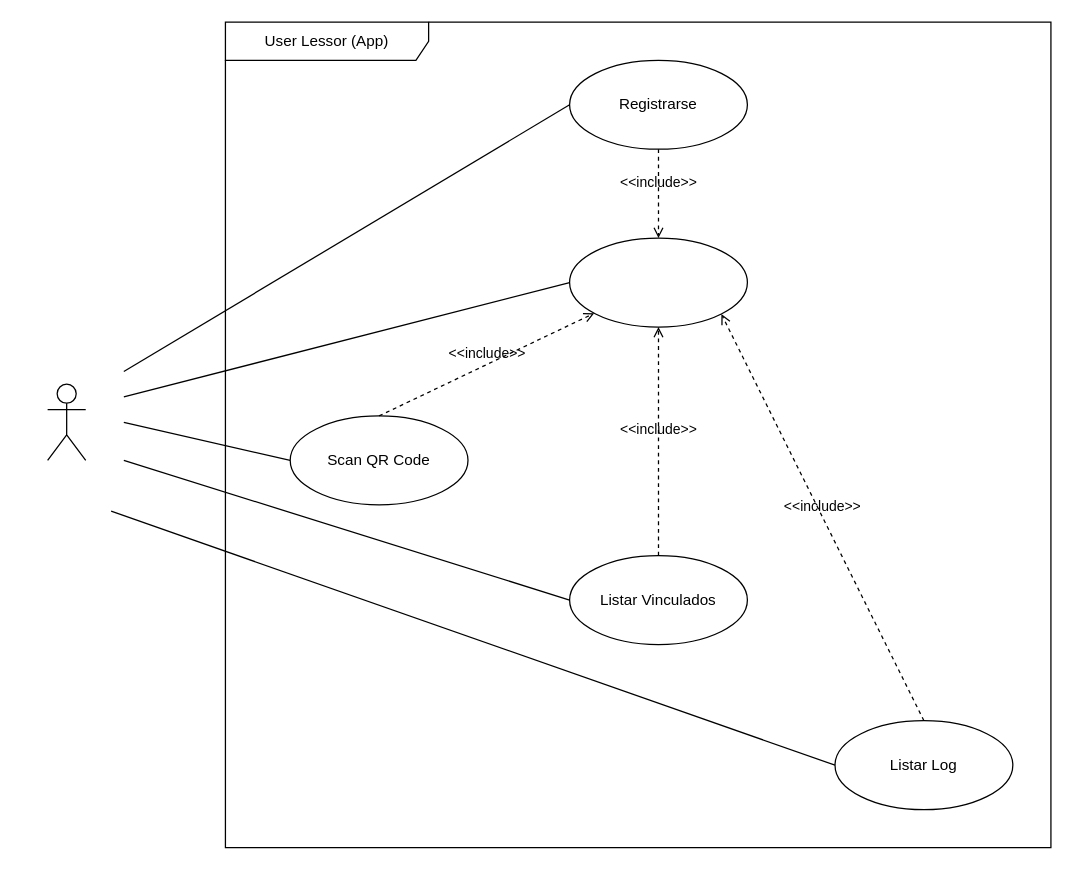
This 1073x870 diagram has some shape labels left out. Here are the shapes that lost their labels. From the top down, the centre of each, then its label:
At pixel 657 282: "Iniciar Sesión".
At pixel 66 421: "Usuario Final (Lessor)".
